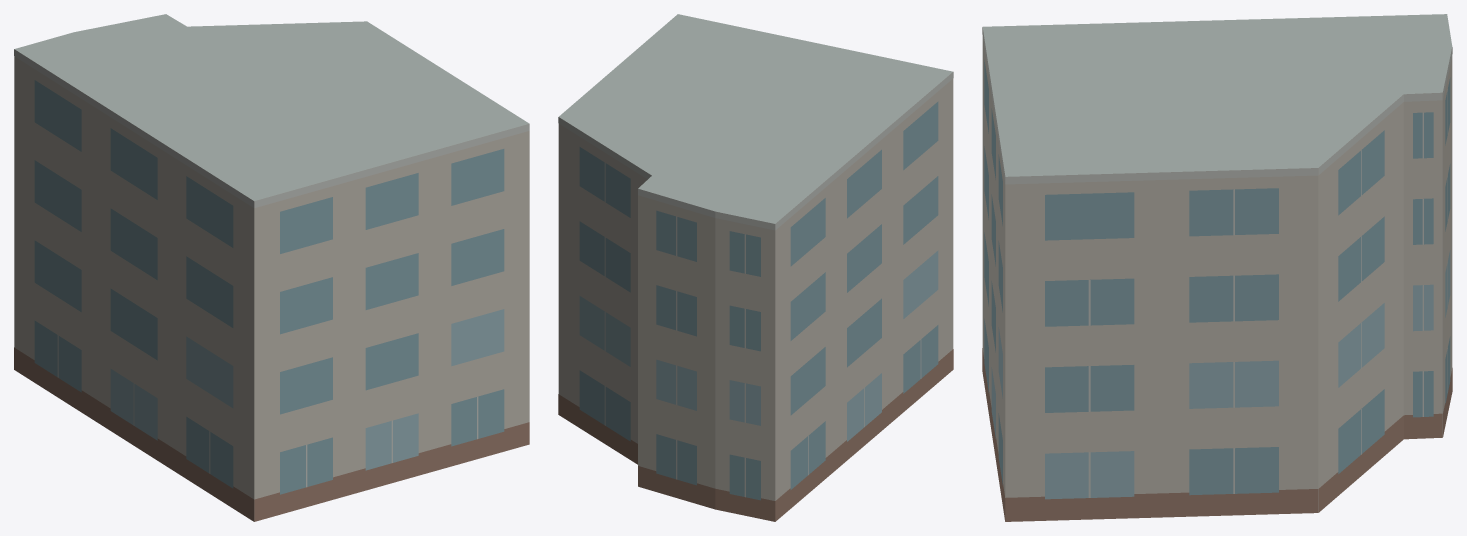
The model's file is survey-upis-32610808.glb.
3 renders of one model, left to right at view 1: azimuth 30°, elevation 25°; view 2: azimuth 150°, elevation 25°; view 3: azimuth 270°, elevation 25°, orthographic. The views are drawn at different scales.
Visible parts, largest first — view 1: survey-upis-32610808.tmp; view 2: survey-upis-32610808.tmp; view 3: survey-upis-32610808.tmp.
Boxes of the visible parts, box(x1,y1,x2,y2) form: survey-upis-32610808.tmp: box(14, 14, 529, 521); survey-upis-32610808.tmp: box(558, 14, 953, 521); survey-upis-32610808.tmp: box(982, 14, 1452, 521).
Size of the model in its own units: 11.25 by 11.1 by 13.71.
